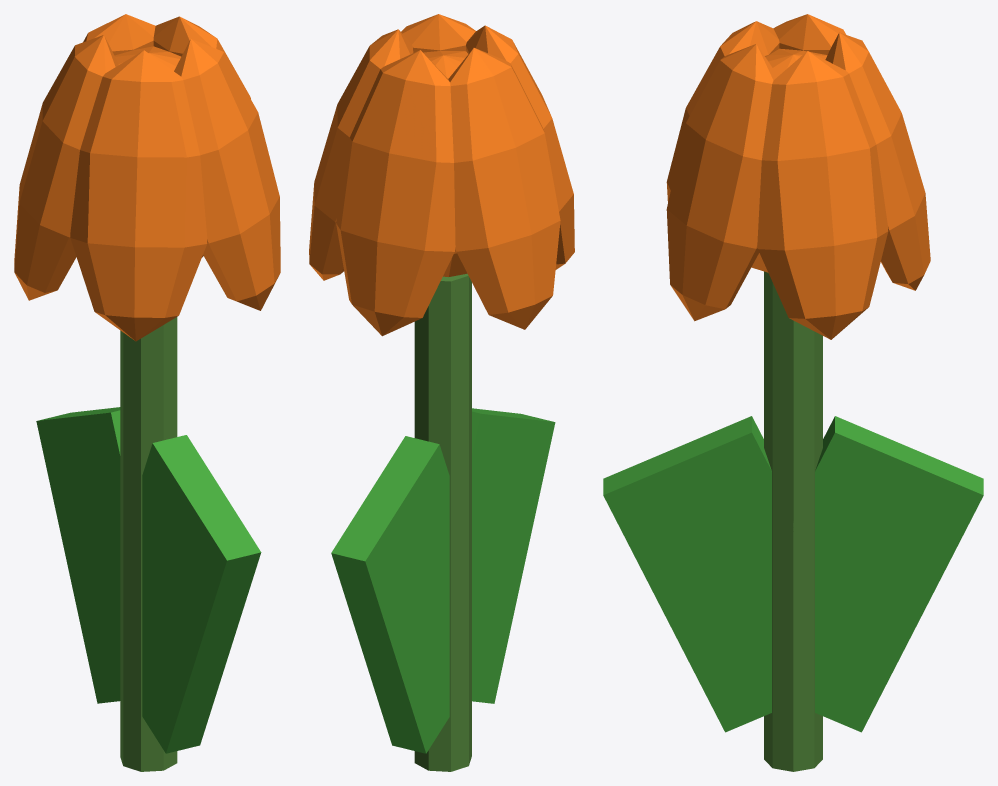
The model's file is Planta_OrangeTulip.fbx.
3 renders of one model, left to right at view 1: azimuth 30°, elevation 25°; view 2: azimuth 150°, elevation 25°; view 3: azimuth 270°, elevation 25°, orthographic.
Visible parts, largest first — view 1: Produto_OrangeTulip, Corpo_OrangeTulip; view 2: Produto_OrangeTulip, Corpo_OrangeTulip; view 3: Corpo_OrangeTulip, Produto_OrangeTulip.
Boxes of the visible parts, x1,y1,x2,y2 form: Produto_OrangeTulip: (14, 14, 280, 341); Corpo_OrangeTulip: (36, 317, 261, 771); Produto_OrangeTulip: (309, 14, 574, 336); Corpo_OrangeTulip: (331, 273, 555, 771); Corpo_OrangeTulip: (603, 271, 983, 771); Produto_OrangeTulip: (666, 14, 930, 339).
Bounding box in the file's own units: 0.8143 × 2.44 × 1.16.
1 material, 1 textured.
